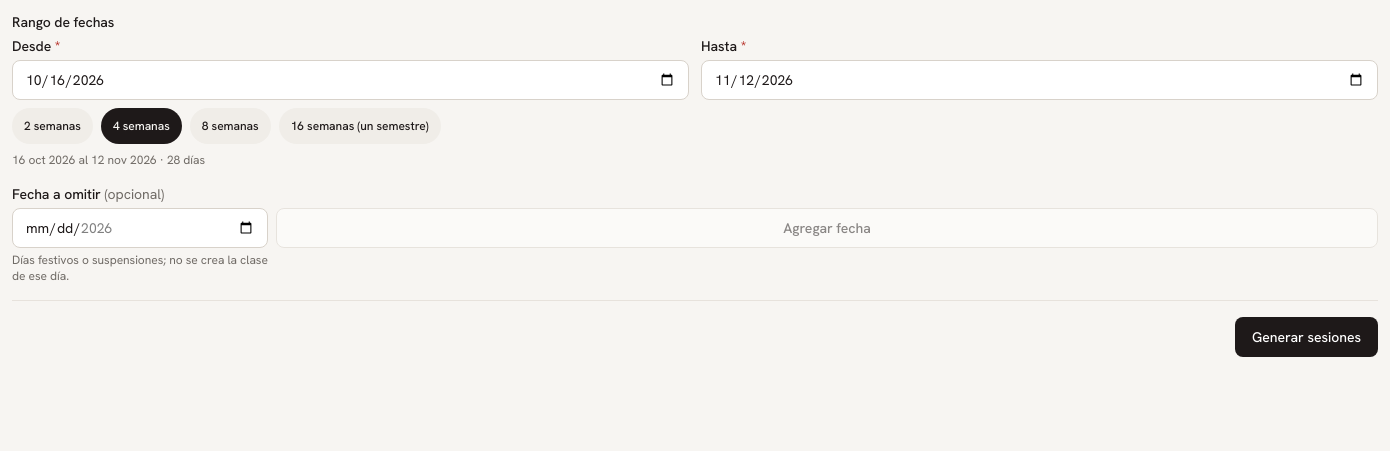
GenerarSesiones › muestra el error del servidor junto al botón y conserva lo capturado
The image size is (1390, 451).
Type "2026-09-01" into the date field labelled "Desde *" at (350, 80), box x1=12 y1=60 x2=689 y2=100
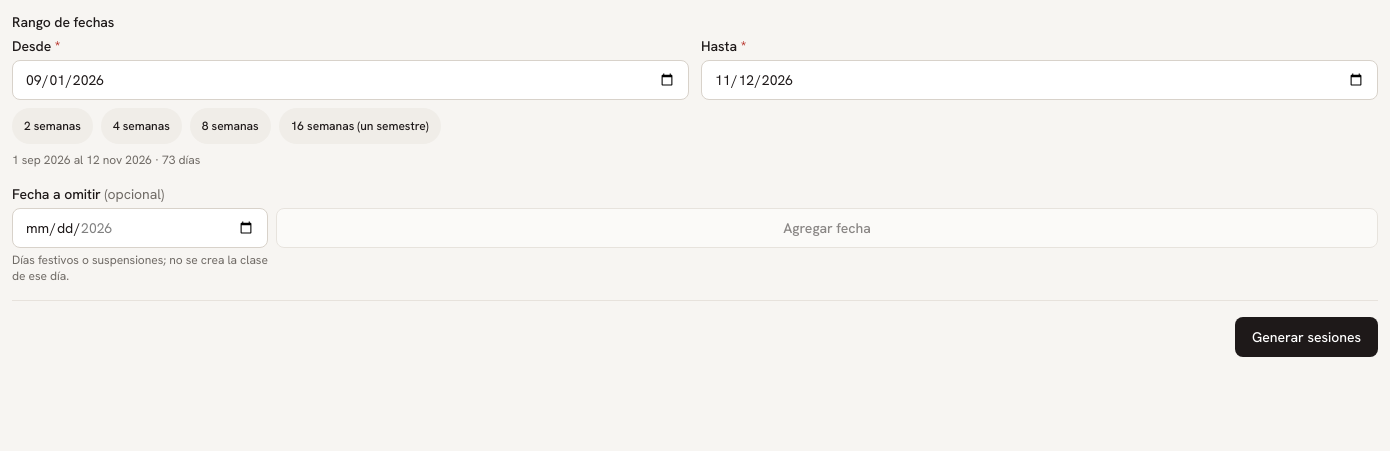
Type "2026-09-30" into the date field labelled "Hasta *" at (1040, 80), box x1=701 y1=60 x2=1378 y2=100
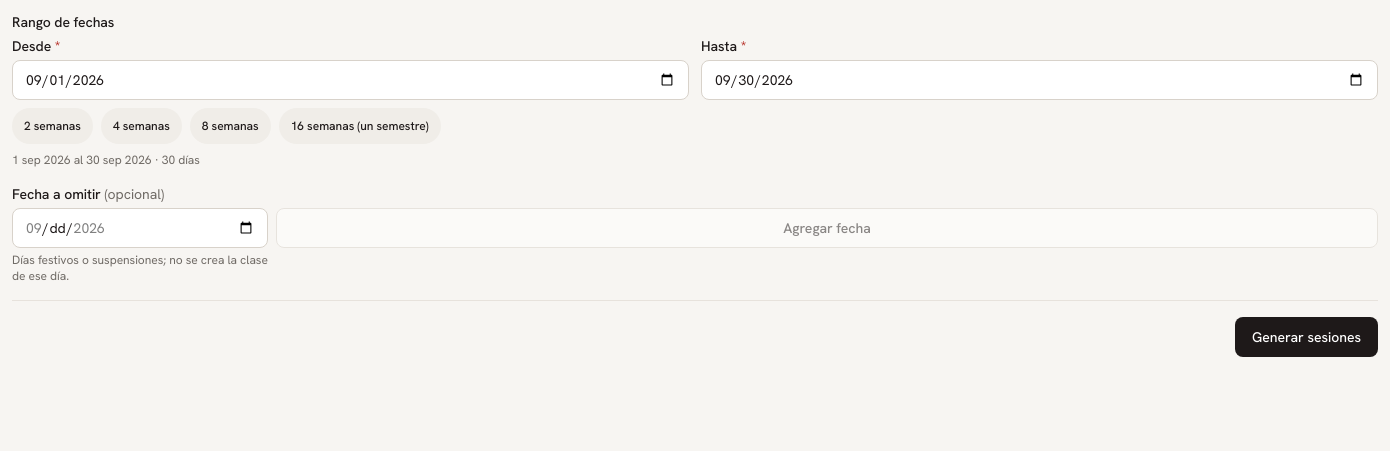
Click the button "Generar sesiones" at (1306, 337), box x1=1235 y1=317 x2=1378 y2=357
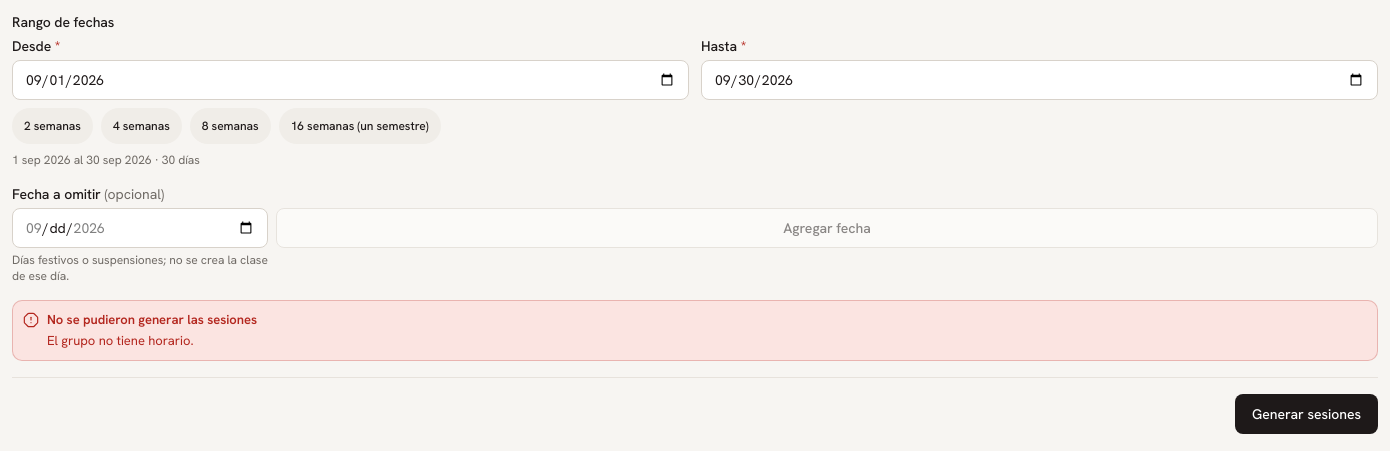
Now the text "El grupo no tiene horario." is shown, box x1=47 y1=332 x2=194 y2=349
